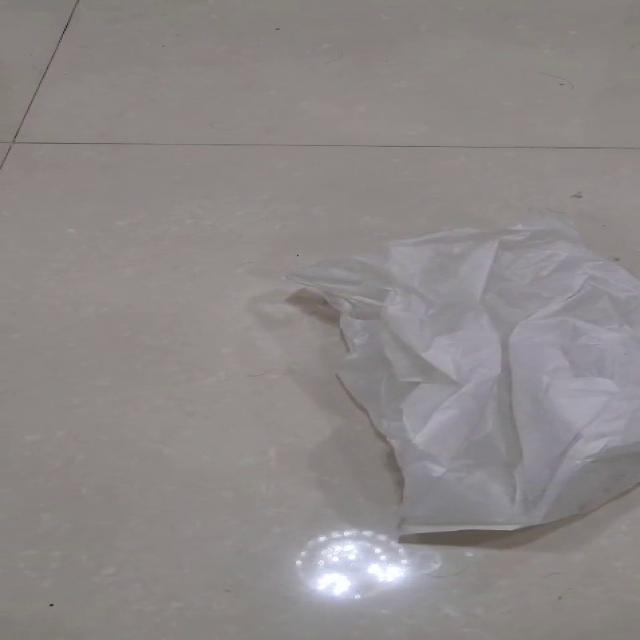plastic: (276, 217, 638, 535)
